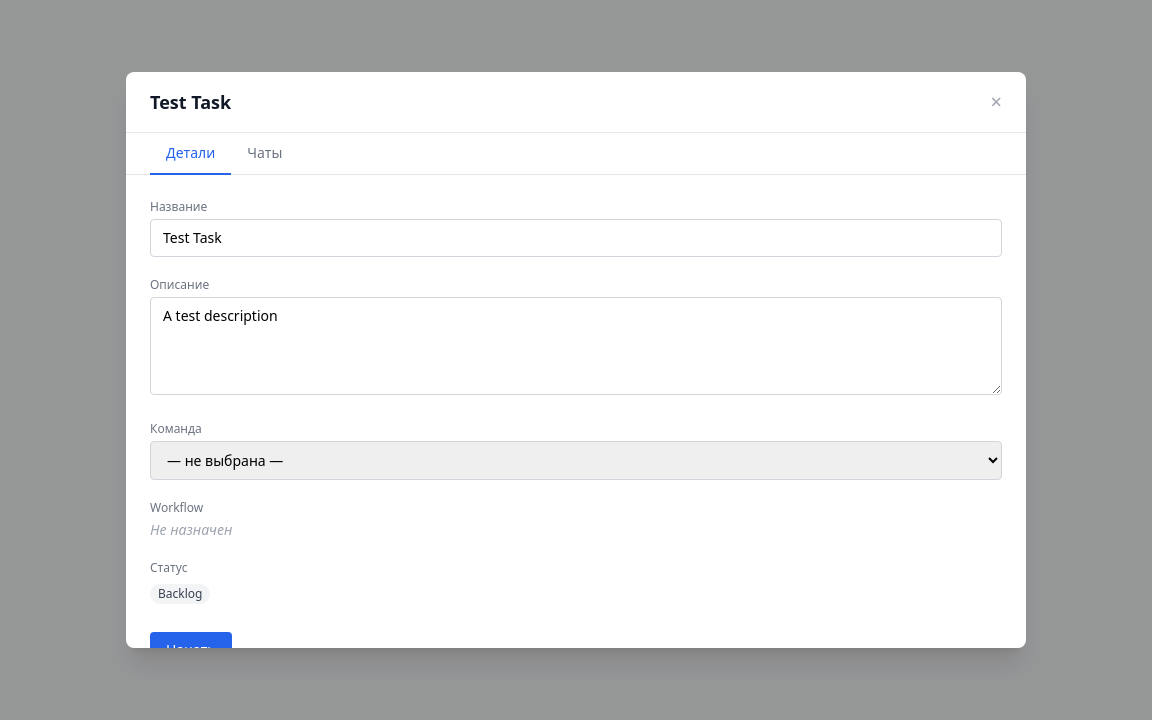
TaskModal › switches to Chats tab
Click the button "Чаты".
click(265, 154)  # box [231, 133, 298, 175]
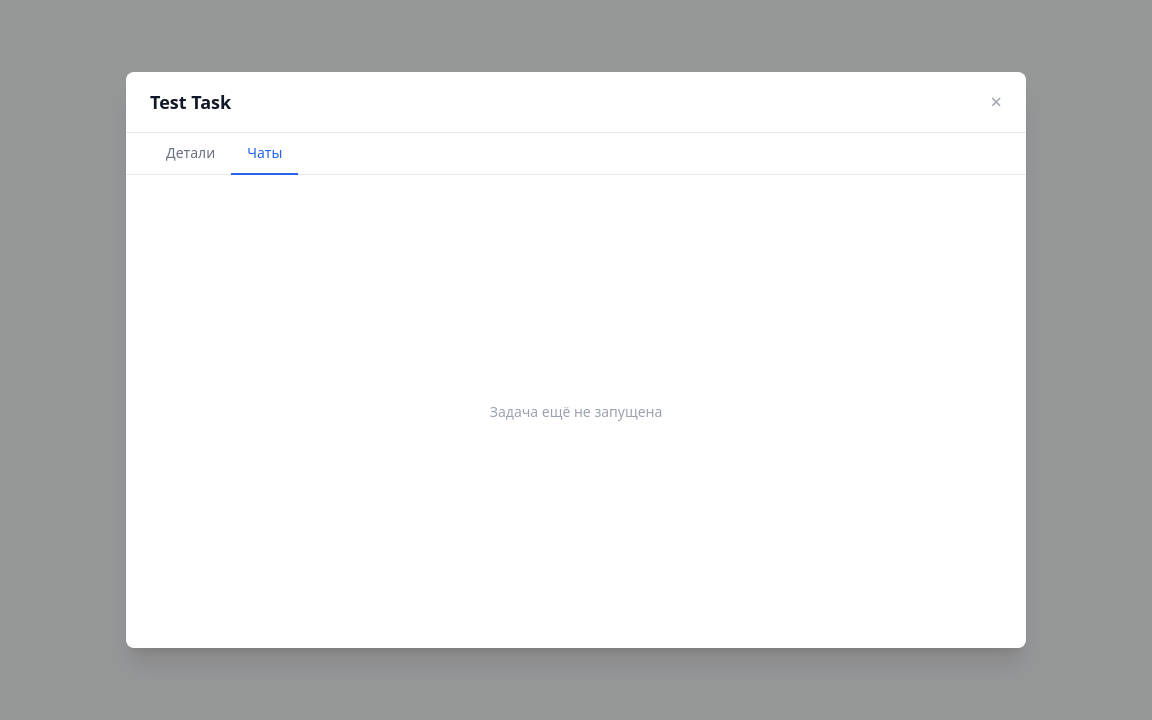
Now the text "Задача ещё не запущена" is shown, box [490, 402, 662, 422]
